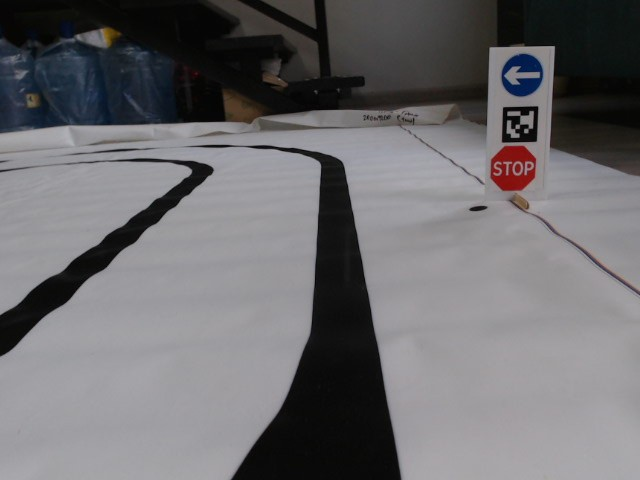Stop: (489, 144, 538, 192)
